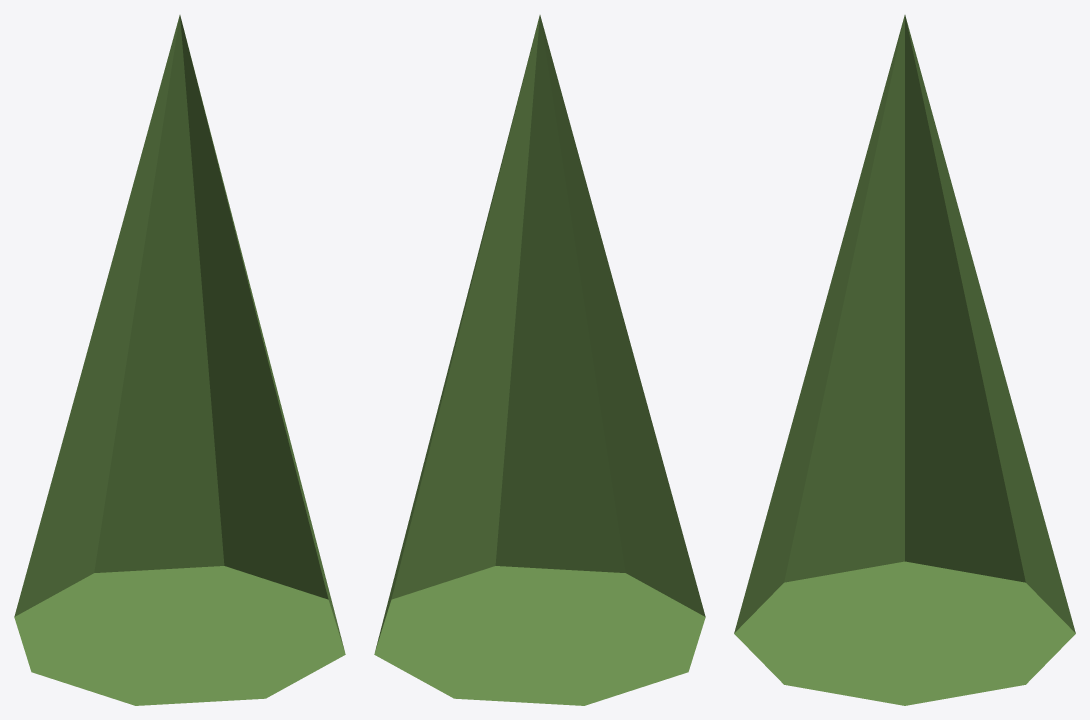
Rendered from tree_willow.glb.
The picture shows the model from 3 angles, left to right: view 1: azimuth 30°, elevation 25°; view 2: azimuth 150°, elevation 25°; view 3: azimuth 270°, elevation 25°; orthographic projection.
Visible parts, largest first — view 1: Willow; view 2: Willow; view 3: Willow.
Boxes of the visible parts, x1,y1,x2,y2 form: Willow: (14,15,345,705); Willow: (374,15,705,705); Willow: (734,15,1075,705).
Size of the model in its own units: 1 by 2 by 1.
